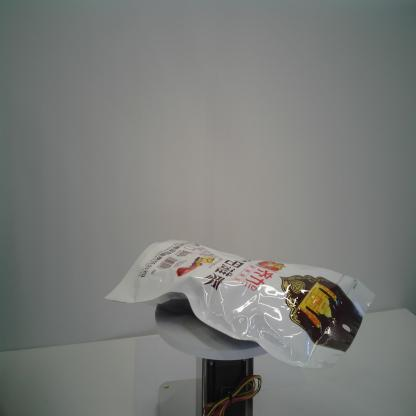Dried Food: (104, 238, 376, 369)
